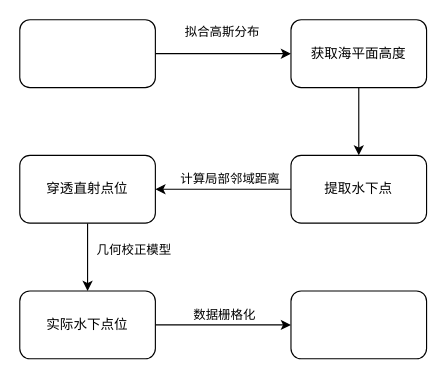
Image size: 446x379. Some labels were removed from this diagram. The shapes that lost their labels are listed below. From the top down, each one's box as (x1, y1, x2, y2) in pixels, then its label:
(19, 19, 155, 88): ATL03
(290, 290, 427, 359): 网格对应点位
